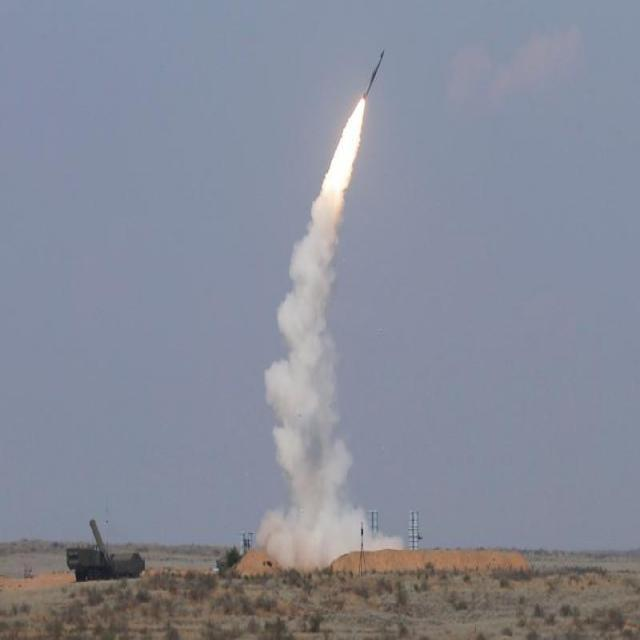missile: (359, 29, 388, 114)
